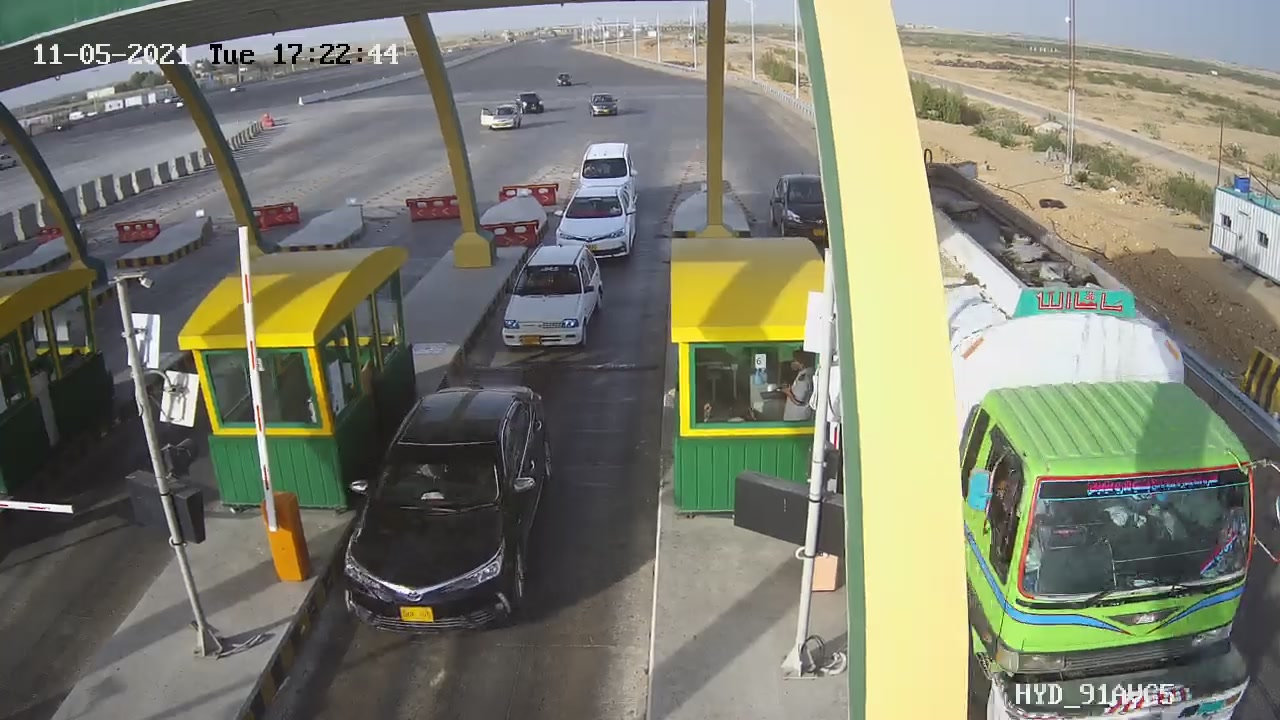F1: (329, 372, 565, 638), (489, 238, 621, 360)
